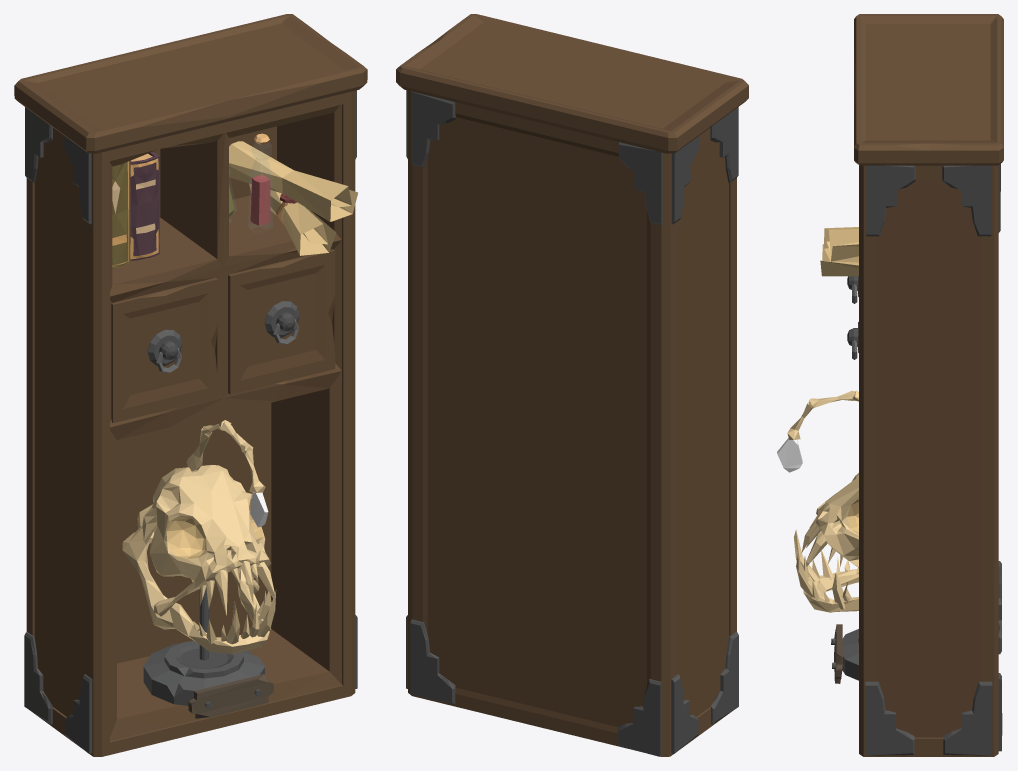
The model's file is Shelving_018.fbx.
3 renders of one model, left to right at view 1: azimuth 30°, elevation 25°; view 2: azimuth 150°, elevation 25°; view 3: azimuth 270°, elevation 25°, orthographic. The views are drawn at different scales.
Visible parts, largest first — view 1: Shelving_018; view 2: Shelving_018; view 3: Shelving_018.
Part boxes in pixels (x1,y1,x2,y2): Shelving_018: [14, 14, 367, 756]; Shelving_018: [396, 14, 748, 756]; Shelving_018: [777, 14, 1003, 756].
Size of the model in its own units: 0.5786 by 1.23 by 0.4124.
